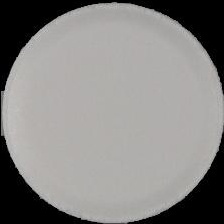66267-031: (0, 0, 224, 224)
